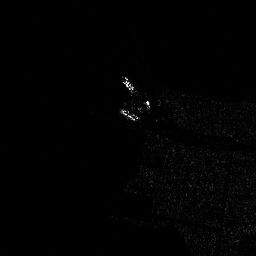ship: (117, 73, 153, 123)
